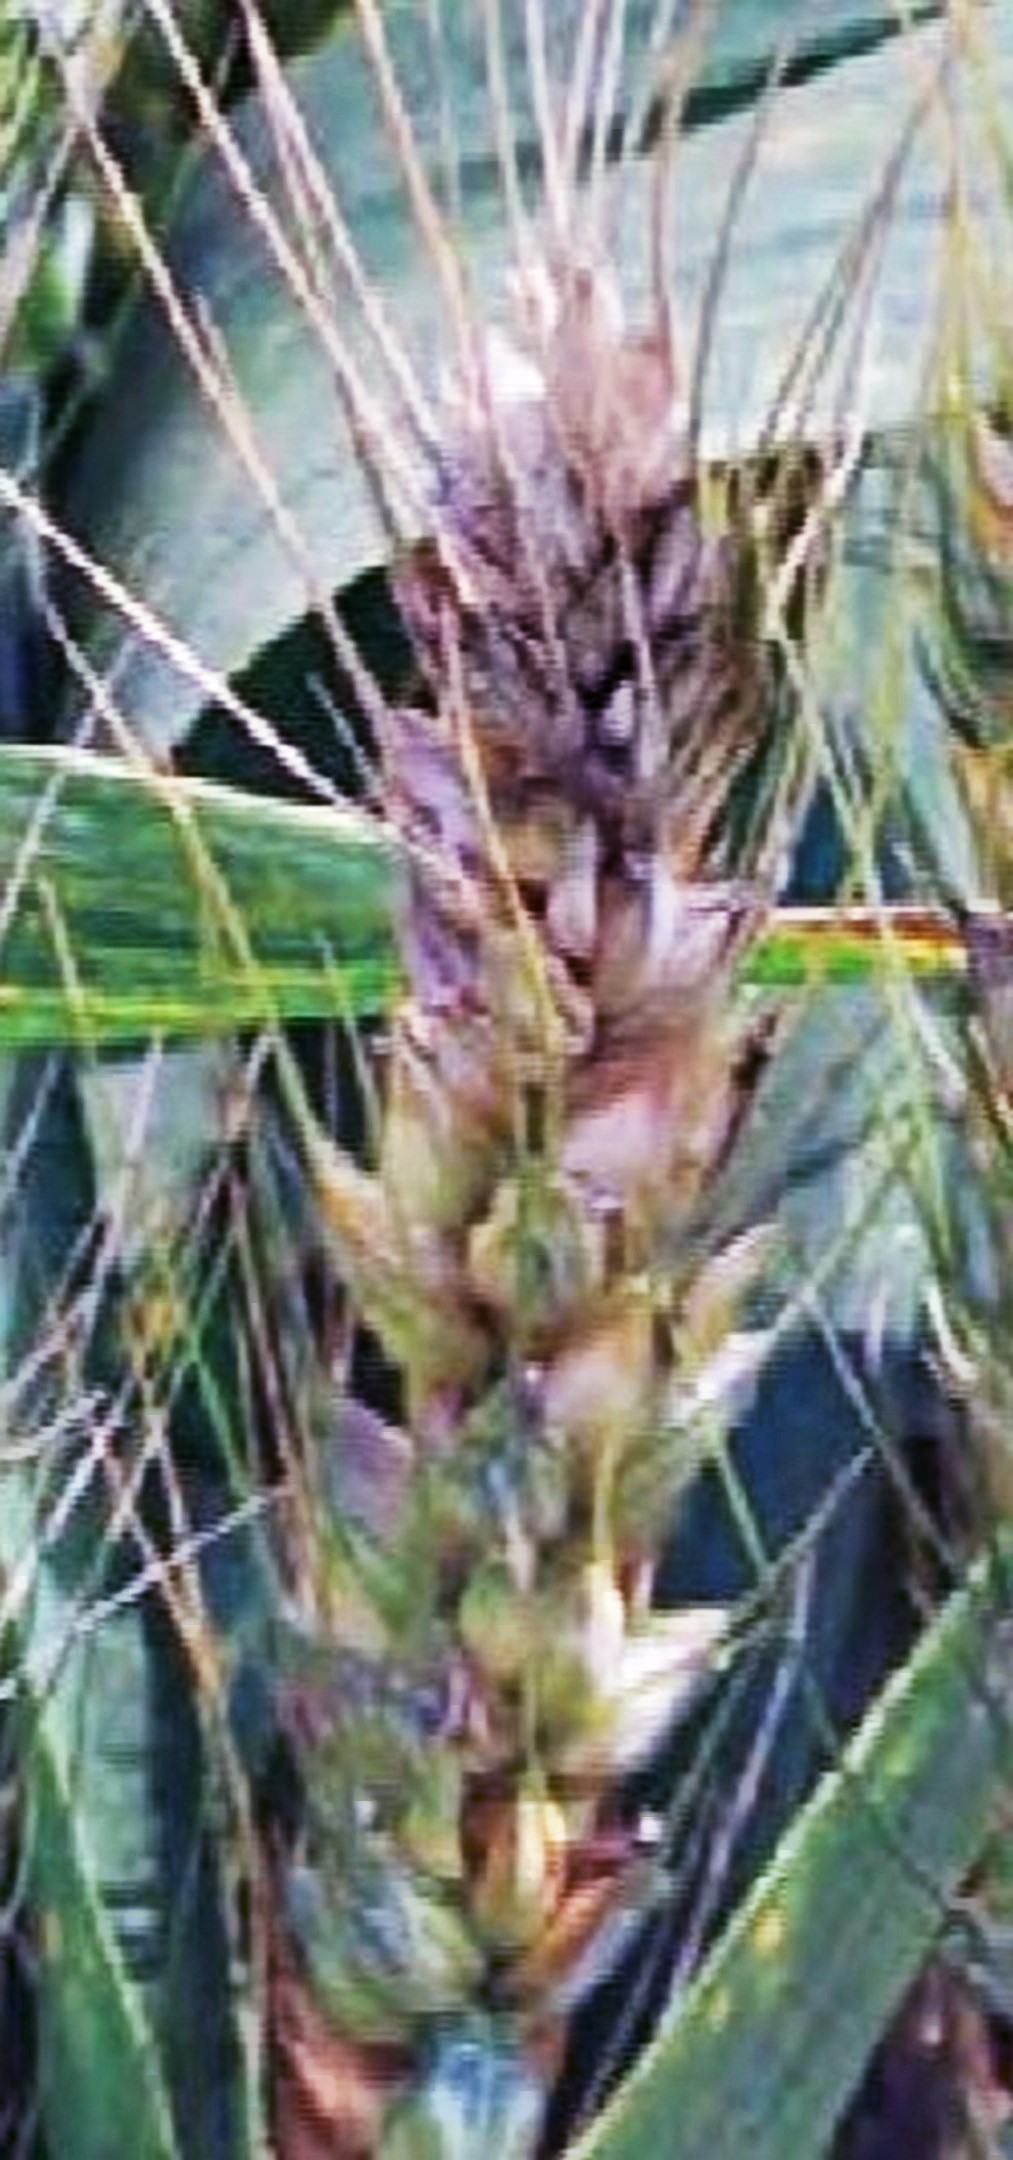Wheat scab: (198, 252, 768, 2080)
